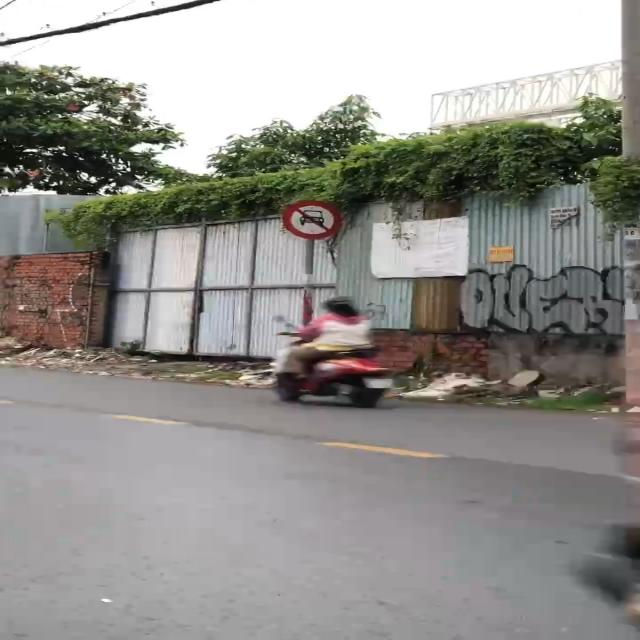Bien bao cam xe oto: (276, 196, 346, 242)
